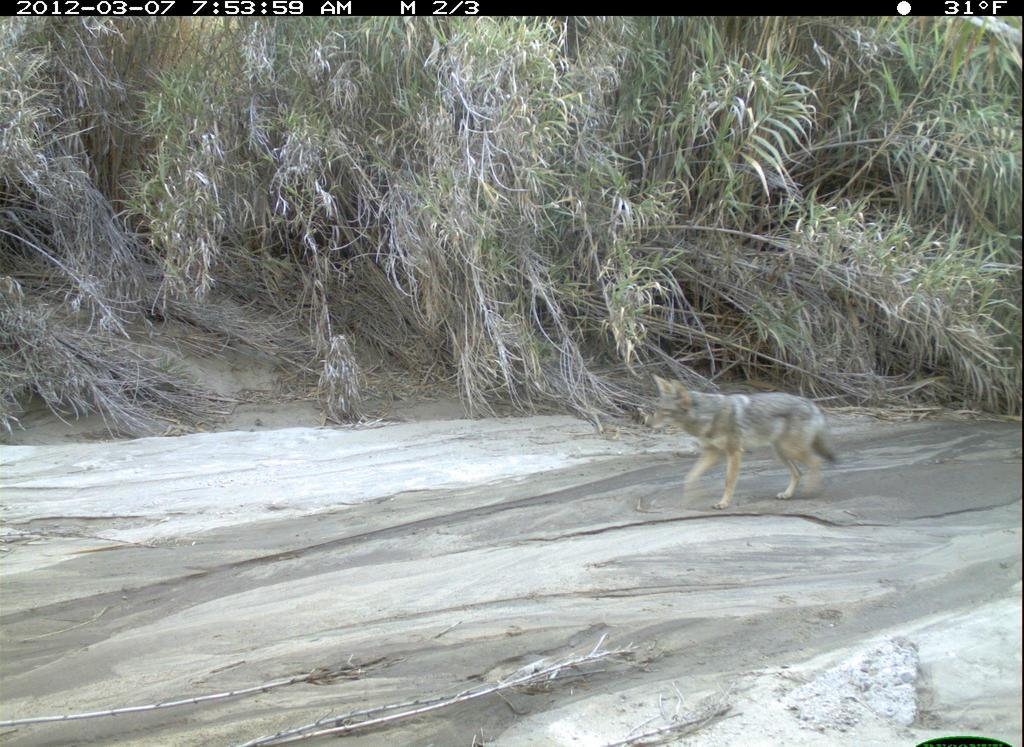coyote: (633, 355, 870, 513)
